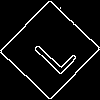L: (25, 25, 78, 77)
